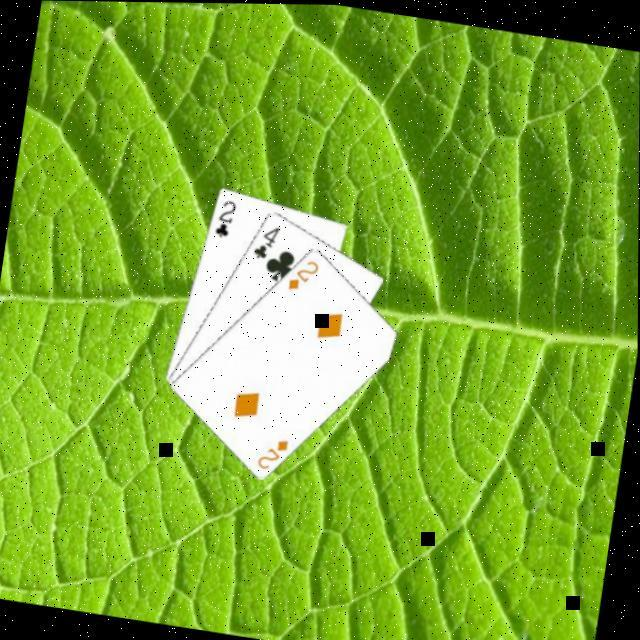2C: (210, 195, 238, 241)
2D: (252, 432, 292, 474), (283, 253, 322, 296)
4C: (249, 220, 282, 264)
